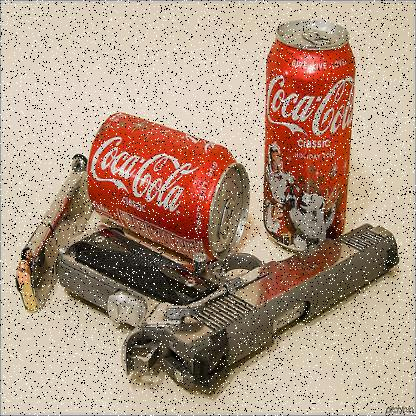pistol: (54, 191, 400, 393)
